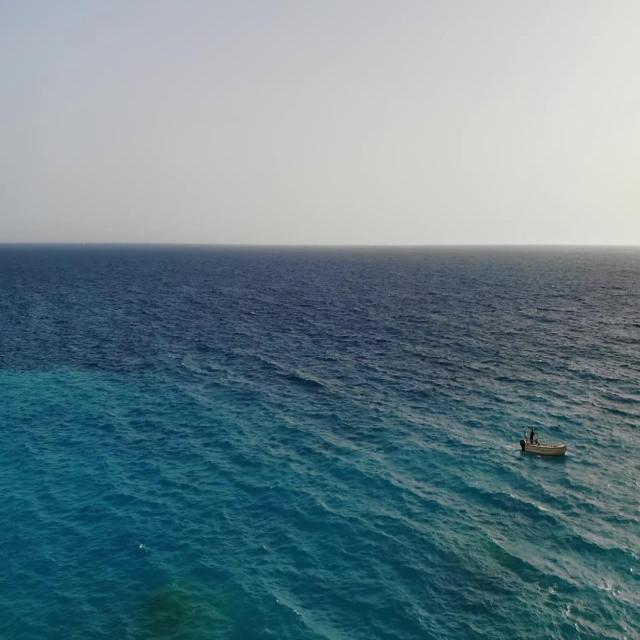boat: (518, 429, 568, 463)
